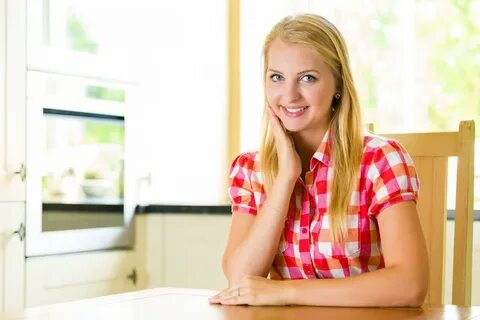awake: (206, 11, 431, 309)
